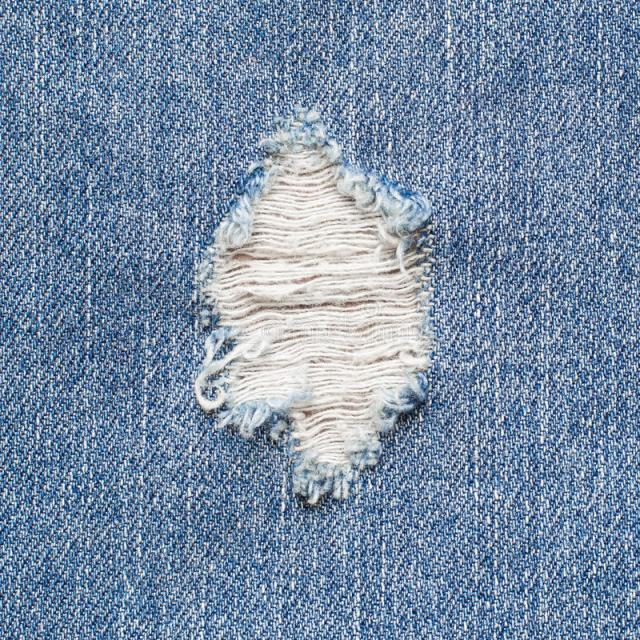Hole: (195, 109, 434, 506)
